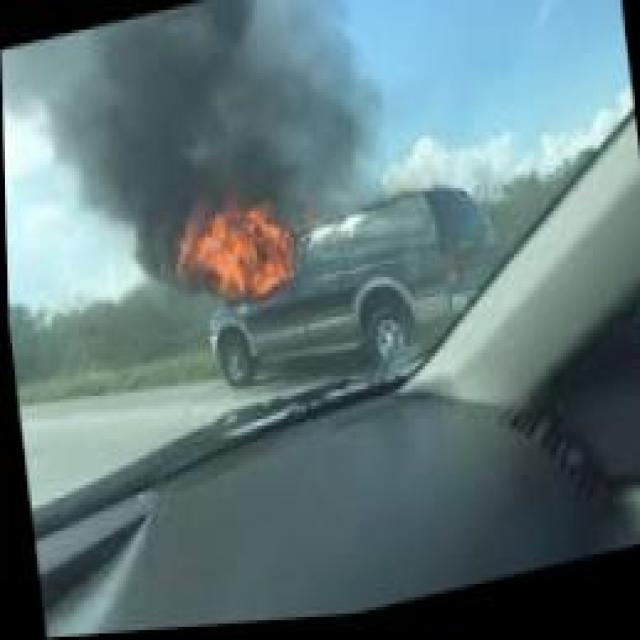Fire: (143, 181, 304, 330)
Smoke: (0, 0, 393, 247)
